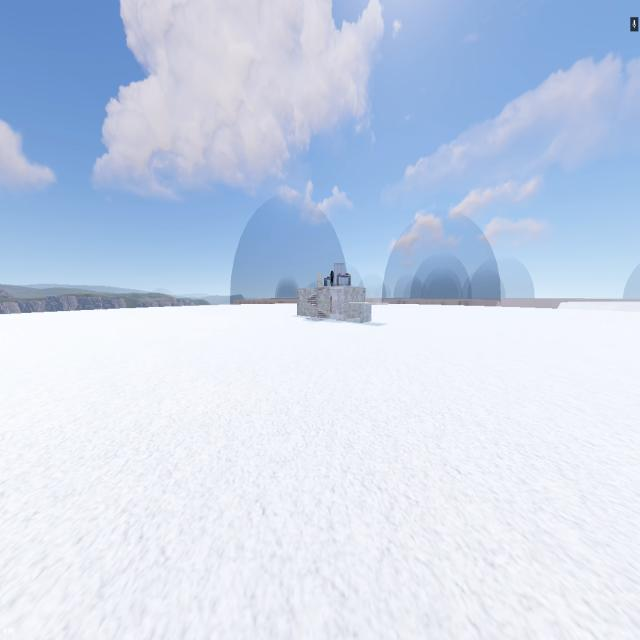Player: (330, 271, 334, 286)
